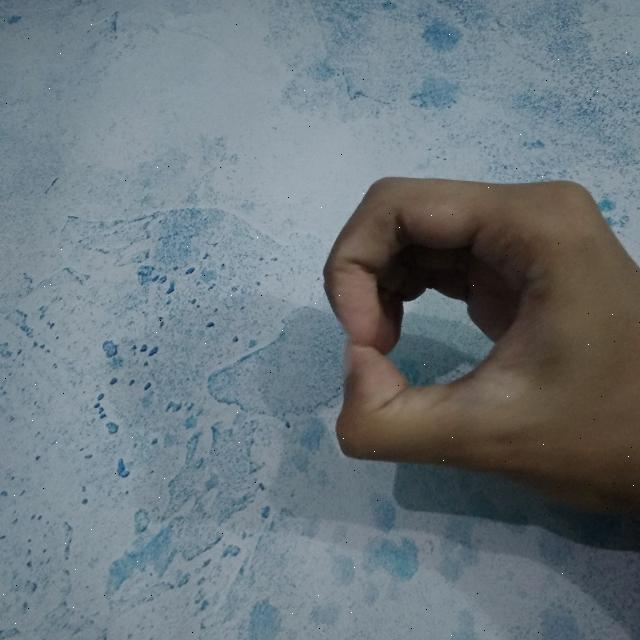O: (318, 163, 640, 506)
